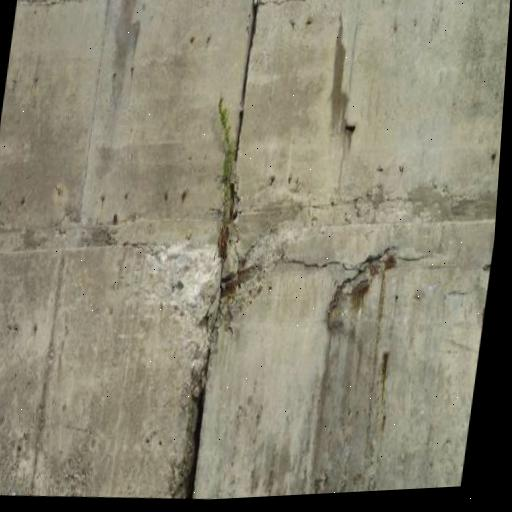exposed_rebar: (381, 352, 389, 381), (180, 189, 188, 204), (381, 415, 386, 432), (112, 214, 119, 225), (290, 19, 297, 30), (305, 17, 313, 25), (398, 166, 405, 173), (164, 192, 169, 201), (270, 176, 275, 185), (130, 67, 134, 78), (492, 153, 496, 164), (376, 165, 383, 171), (288, 173, 292, 183), (20, 198, 25, 205), (394, 295, 399, 302), (190, 36, 194, 44), (207, 36, 210, 44), (125, 193, 128, 199), (101, 196, 104, 201), (0, 201, 1, 207)
